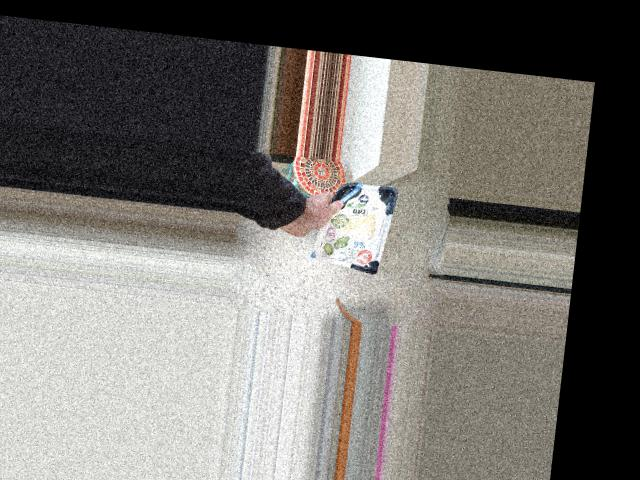cheese: (296, 193, 374, 270)
